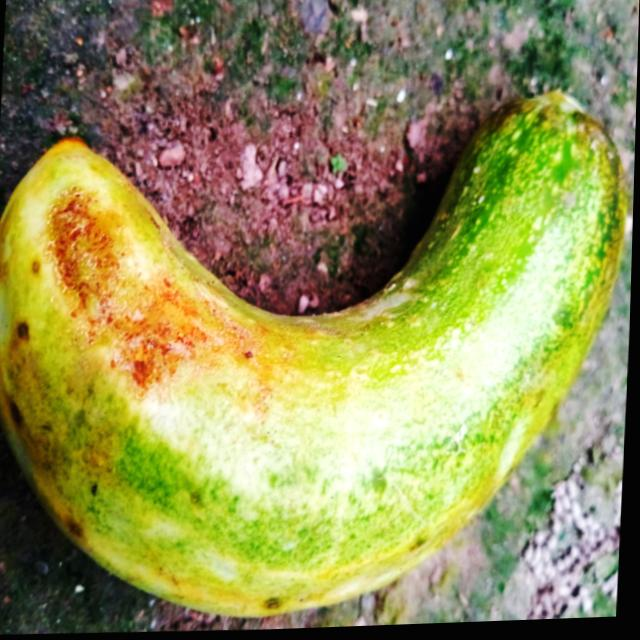Belly-Rot: (39, 157, 325, 454)
